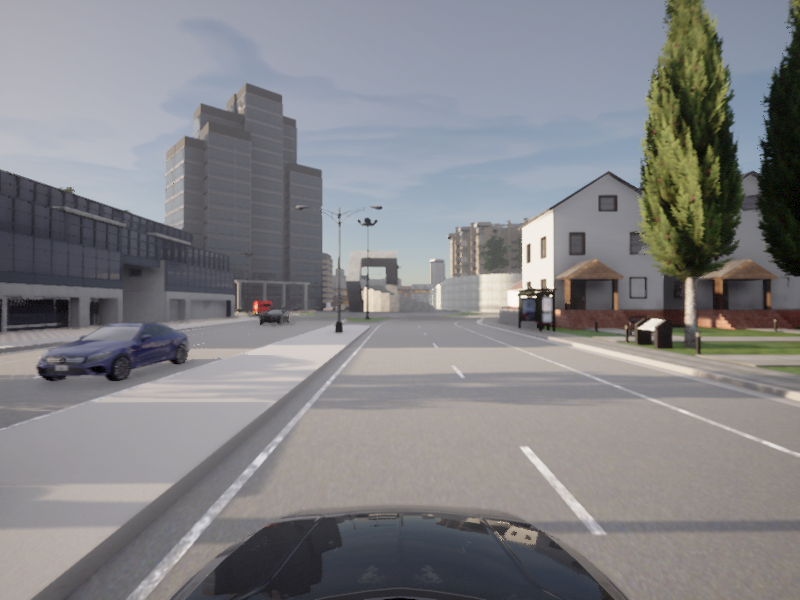vehicle: (23, 319, 198, 387), (255, 307, 291, 325)
